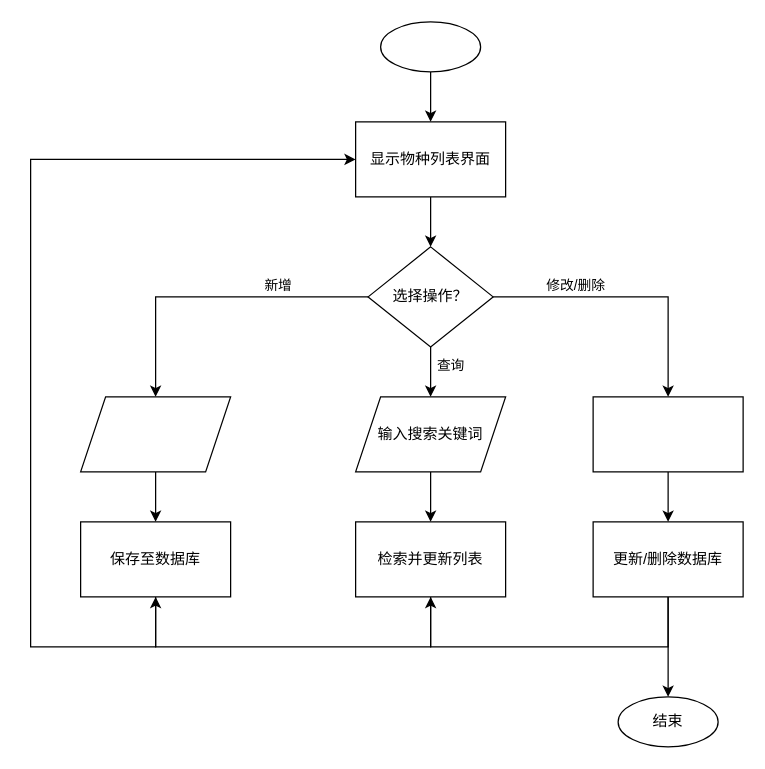
Some shapes in this 765 by 769 pixel diagram are drawn without their labels. Each missing label, with the centre of its shape:
"开始" belongs at (x=430, y=46).
"输入新物种信息" belongs at (x=155, y=434).
"选择目标物种" belongs at (x=667, y=434).
